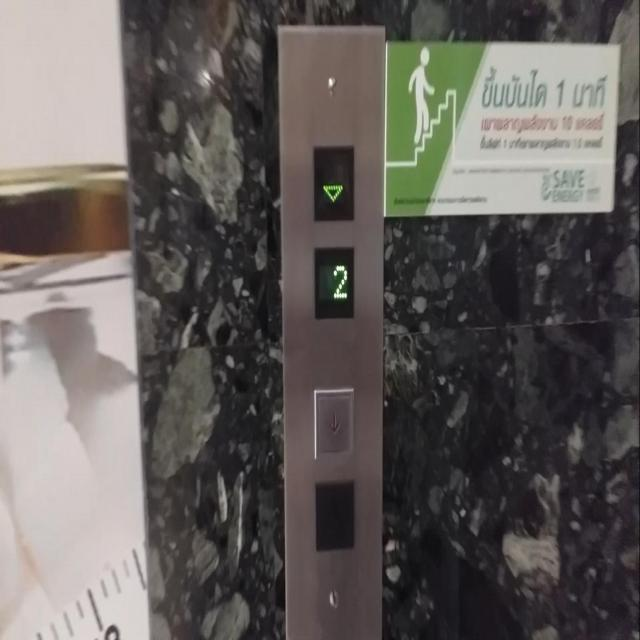down: (311, 383, 357, 464)
empty: (314, 480, 354, 552)
led: (308, 140, 356, 224), (311, 239, 358, 323)
